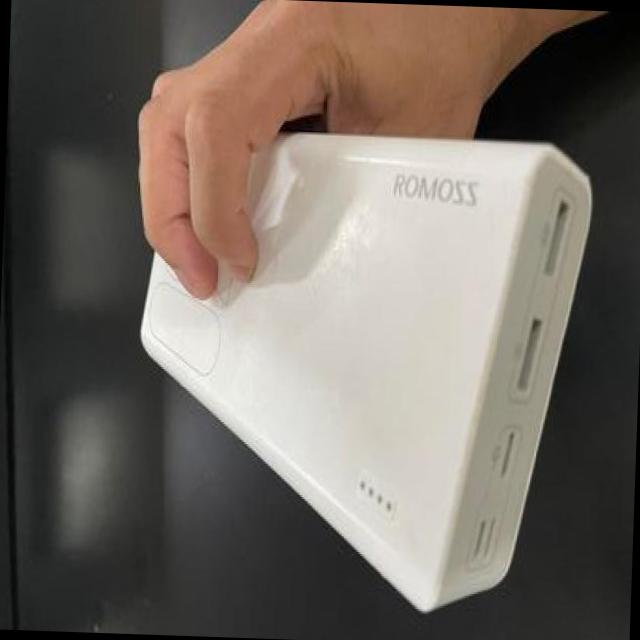portable-charger: (108, 89, 603, 626)
